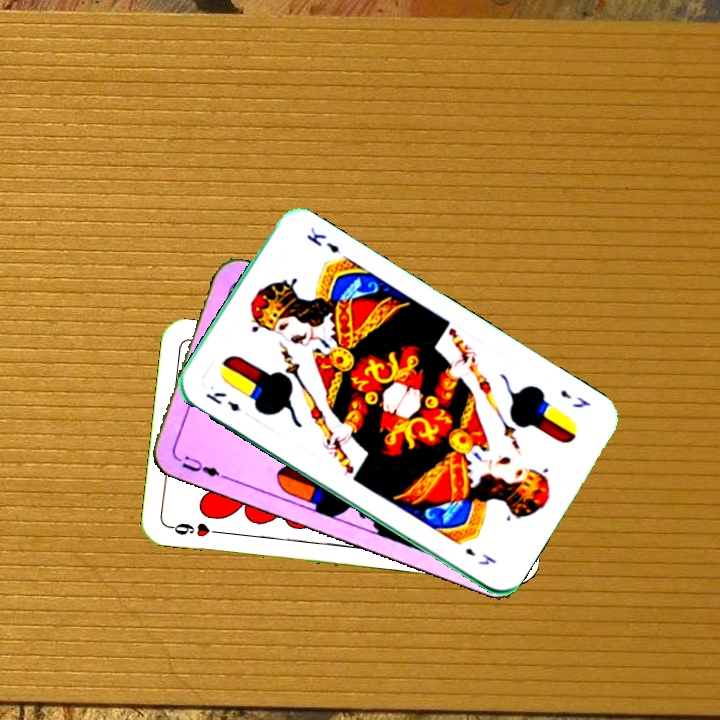EK: (201, 388, 243, 415), (556, 385, 593, 411)
EU: (177, 451, 228, 482)
H9: (165, 518, 224, 540)
